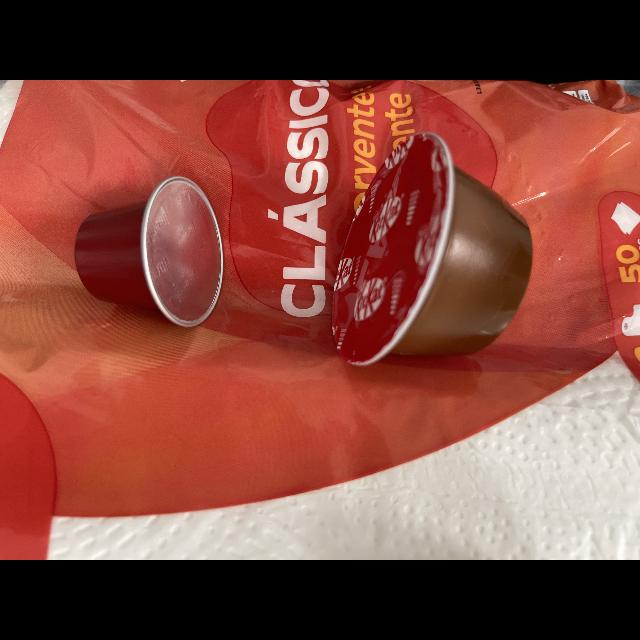intact_capsule: (317, 124, 539, 408), (58, 168, 240, 342)
